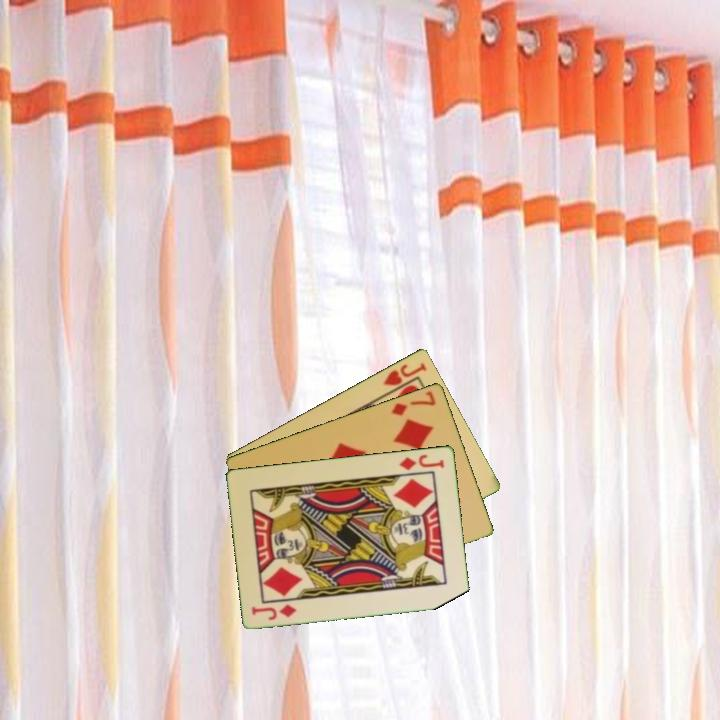7d: (388, 387, 439, 418)
Jd: (248, 600, 300, 623), (395, 451, 447, 473)
Jh: (379, 359, 430, 398)
